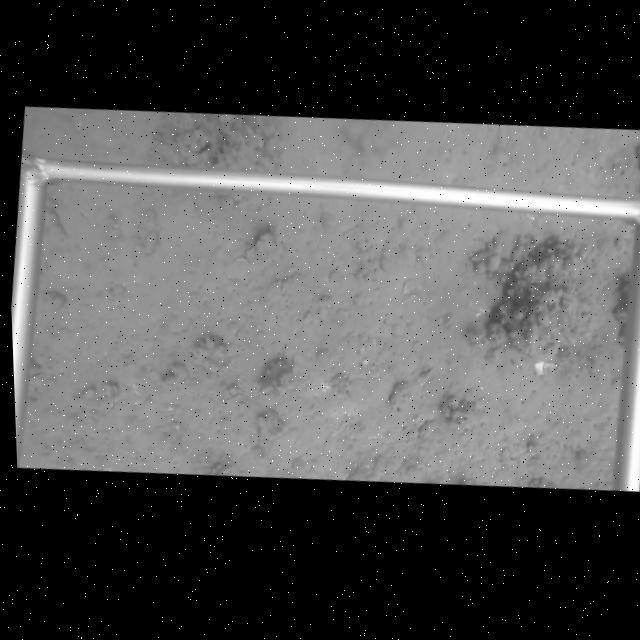Oyster-Indeterminate: (241, 228, 277, 264)
